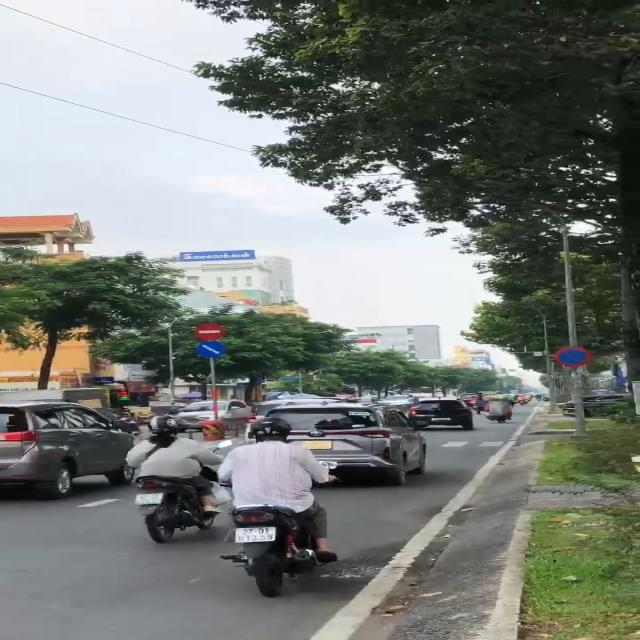Bien bao cam di nguoc chieu: (193, 323, 225, 340)
Bien bao huong phai di vong chuong ngai vat: (193, 341, 235, 362)
